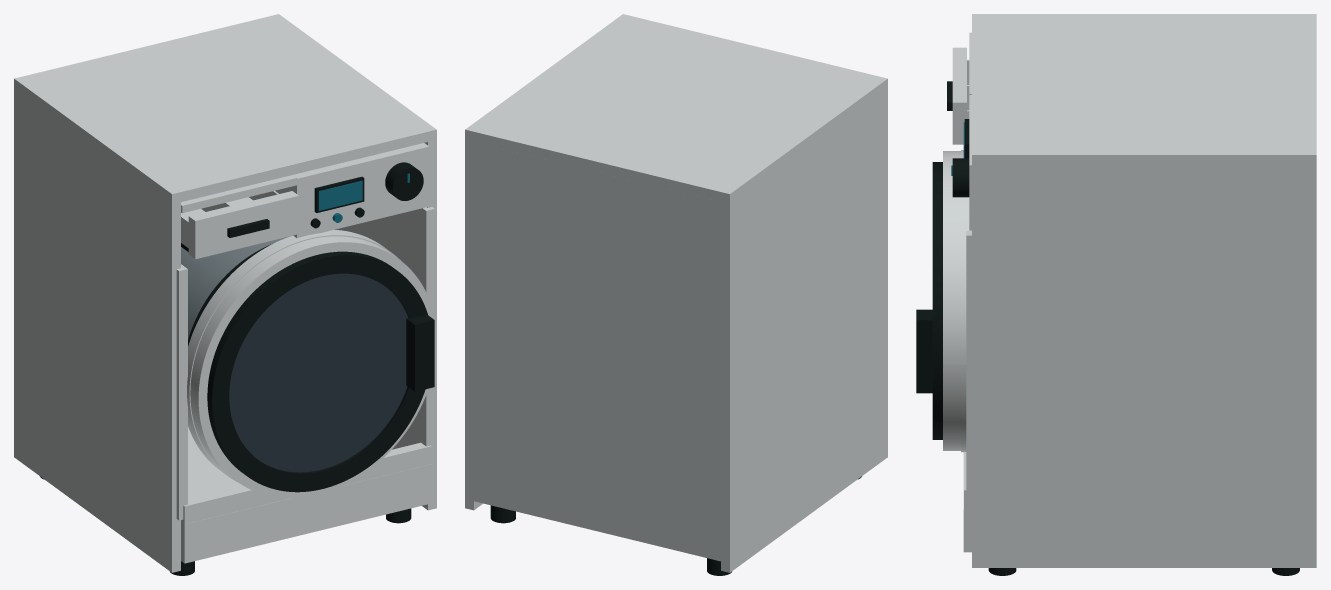
3 views of the same model, side by side, from view 1: azimuth 30°, elevation 25°; view 2: azimuth 150°, elevation 25°; view 3: azimuth 270°, elevation 25° (orthographic). The views are drawn at different scales.
Parts seen in each view (by area): view 1: /Asset/Links/cabinet/Visuals/side_0_29/Geom, /Asset/Links/cabinet/Visuals/top/Geom, /Asset/Links/door/Visuals/window/Geom, /Asset/Links/door/Visuals/dark_rim/Geom/dark_rim_obj, /Asset/Links/cabinet/Visuals/plinth/Geom, /Asset/Links/door/Visuals/white_rim/Geom/white_rim_obj, /Asset/Links/cabinet/Visuals/controls/Geom, /Asset/Links/detergent_drawer/Visuals/facade/Geom, /Asset/Links/cabinet/Visuals/side0_29/Geom, /Asset/Links/cabinet/Visuals/lower_crossbar/Geom, /Asset/Links/cabinet/Visuals/front_post_0_28/Geom, /Asset/Links/cabinet/Visuals/port_surround/Geom/port_surroun (+7 smaller); view 2: /Asset/Links/cabinet/Visuals/back/Geom, /Asset/Links/cabinet/Visuals/side_0_29/Geom, /Asset/Links/cabinet/Visuals/top/Geom, /Asset/Links/cabinet/Visuals/side0_29/Geom; view 3: /Asset/Links/cabinet/Visuals/side0_29/Geom, /Asset/Links/cabinet/Visuals/top/Geom, /Asset/Links/door/Visuals/white_rim/Geom/white_rim_obj, /Asset/Links/door/Visuals/dark_rim/Geom/dark_rim_obj, /Asset/Links/cabinet/Visuals/port_surround/Geom/port_surroun, /Asset/Links/cabinet/Visuals/front_post0_28/Geom, /Asset/Links/door/Visuals/handle/Geom, /Asset/Links/detergent_drawer/Visuals/facade/Geom, /Asset/Links/selector/Visuals/dial/Geom.
Part boxes in pixels (<box>): /Asset/Links/cabinet/Visuals/side_0_29/Geom: <box>14,88,180,572</box>; /Asset/Links/cabinet/Visuals/top/Geom: <box>14,14,436,203</box>; /Asset/Links/door/Visuals/window/Geom: <box>229,273,407,472</box>; /Asset/Links/door/Visuals/dark_rim/Geom/dark_rim_obj: <box>207,251,427,492</box>; /Asset/Links/cabinet/Visuals/plinth/Geom: <box>181,464,431,563</box>; /Asset/Links/door/Visuals/white_rim/Geom/white_rim_obj: <box>190,236,436,498</box>; /Asset/Links/cabinet/Visuals/controls/Geom: <box>291,143,429,238</box>; /Asset/Links/detergent_drawer/Visuals/facade/Geom: <box>188,191,298,259</box>; /Asset/Links/cabinet/Visuals/side0_29/Geom: <box>275,139,436,510</box>; /Asset/Links/cabinet/Visuals/lower_crossbar/Geom: <box>181,442,431,524</box>; /Asset/Links/cabinet/Visuals/front_post_0_28/Geom: <box>176,264,187,520</box>; /Asset/Links/cabinet/Visuals/port_surround/Geom/port_surroun: <box>187,229,400,481</box>; /Asset/Links/cabinet/Visuals/back/Geom: <box>474,142,720,561</box>; /Asset/Links/cabinet/Visuals/side_0_29/Geom: <box>721,88,887,572</box>; /Asset/Links/cabinet/Visuals/top/Geom: <box>465,14,887,203</box>; /Asset/Links/cabinet/Visuals/side0_29/Geom: <box>465,139,482,510</box>; /Asset/Links/cabinet/Visuals/side0_29/Geom: <box>972,165,1316,567</box>; /Asset/Links/cabinet/Visuals/top/Geom: <box>972,14,1316,164</box>; /Asset/Links/door/Visuals/white_rim/Geom/white_rim_obj: <box>943,151,960,450</box>; /Asset/Links/door/Visuals/dark_rim/Geom/dark_rim_obj: <box>932,162,942,439</box>; /Asset/Links/cabinet/Visuals/port_surround/Geom/port_surroun: <box>961,150,971,452</box>; /Asset/Links/cabinet/Visuals/front_post0_28/Geom: <box>966,231,971,507</box>; /Asset/Links/door/Visuals/handle/Geom: <box>916,309,932,393</box>; /Asset/Links/detergent_drawer/Visuals/facade/Geom: <box>952,47,966,144</box>; /Asset/Links/selector/Visuals/dial/Geom: <box>952,158,969,197</box>.
Size of the model in its own units: 0.6 by 0.85 by 0.72.
